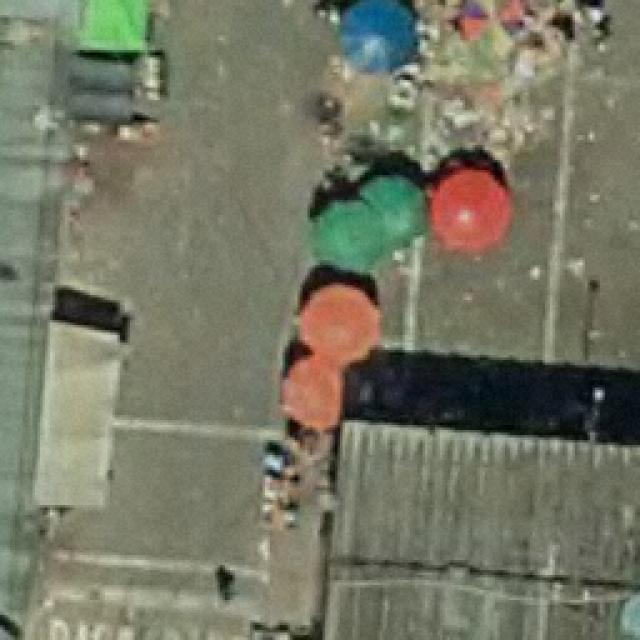vendedor_ambulante: (427, 156, 516, 257), (294, 272, 384, 368), (308, 190, 392, 278), (334, 0, 429, 75), (272, 354, 354, 438), (358, 167, 430, 247)
